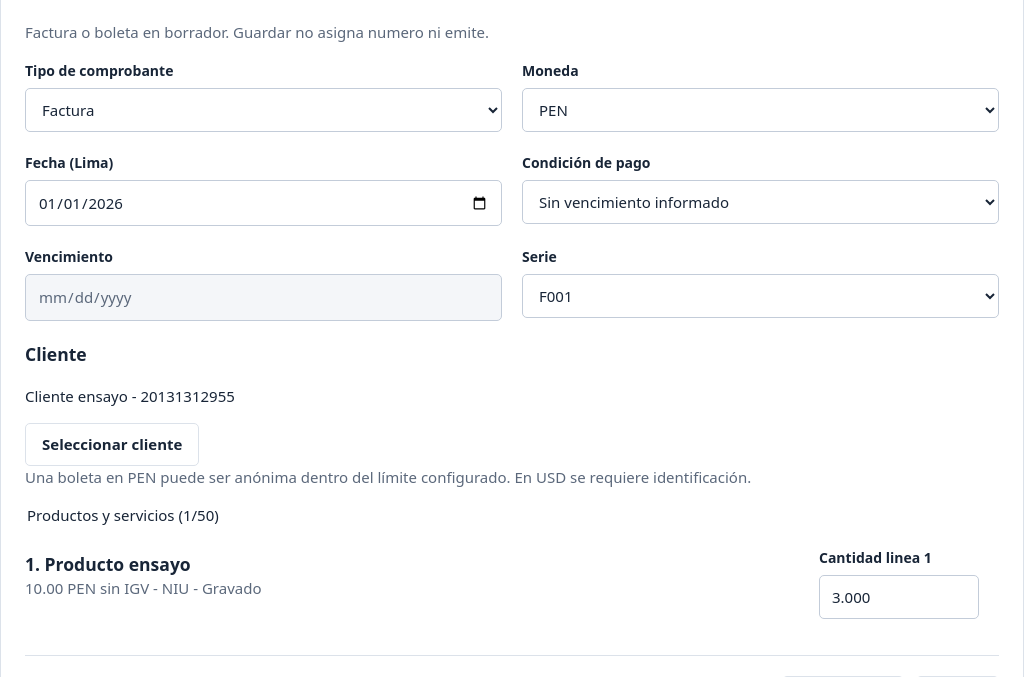
Test case: descarta previews antiguos y oculta totales mientras recalcula
Clear the field labelled "Cantidad linea 1" at coordinates (899, 597), box [819, 575, 979, 619]
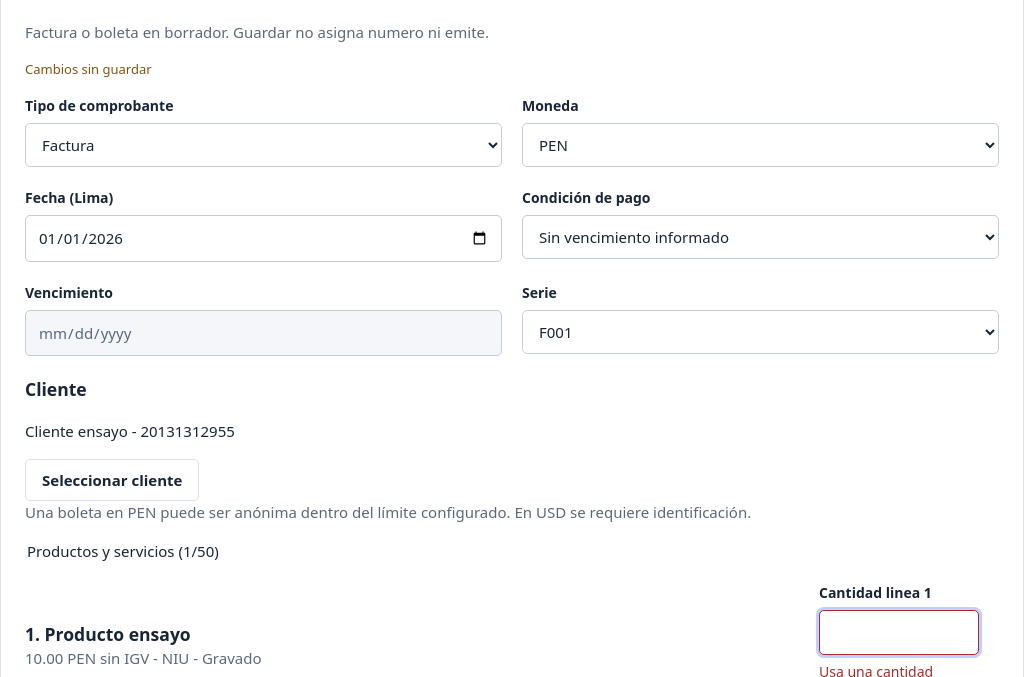
Type "4" into the field labelled "Cantidad linea 1" at coordinates (899, 632), box [819, 610, 979, 655]
(page scrolled)
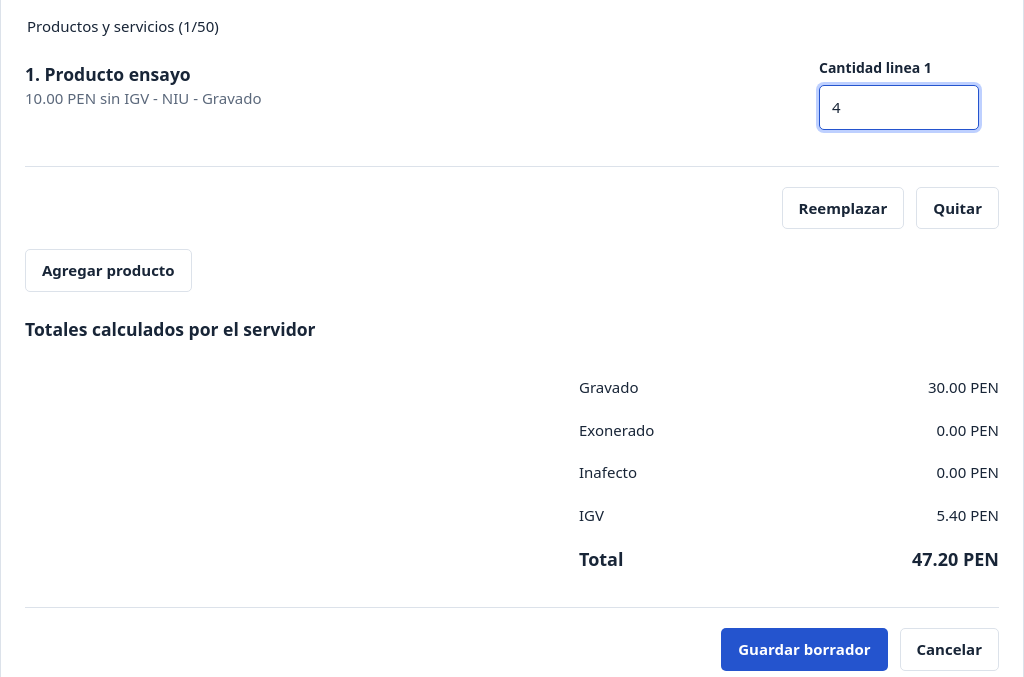
Check: the text "47.20 PEN" is shown, box [912, 546, 999, 573]
